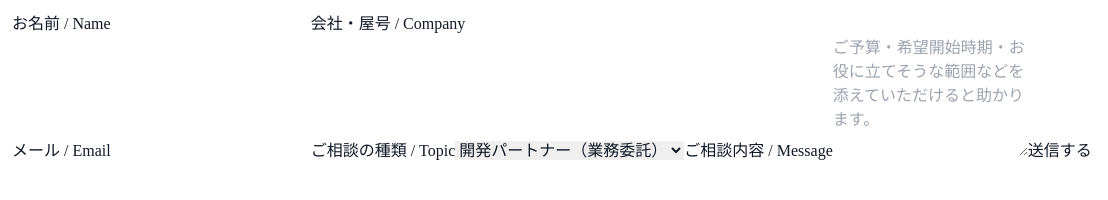
Test: Phase 6: ContactForm — submission › posts the mapped payload to /api/contact and shows success copy
Type "堤 暁寛" into the field labelled "お名前 / Name". click: (211, 24)
box: [111,12,311,36]
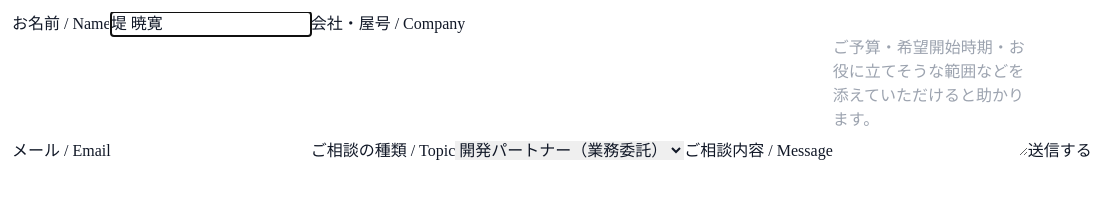
Type "a@b.co" into the field labelled "メール / Email". click: (211, 151)
box: [111,139,311,163]
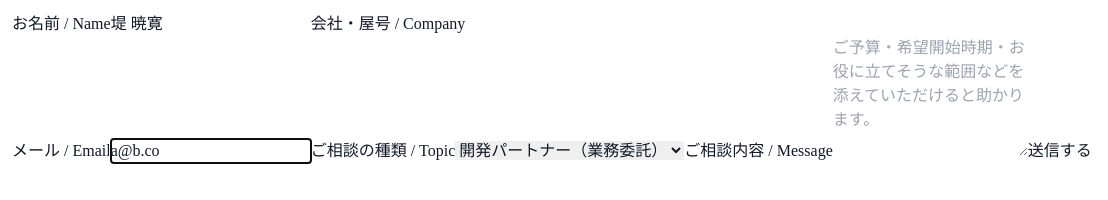
Exercise the topic select change path as well.
Select "スポット・単発案件" in the dropdown labelled "ご相談の種類 / Topic". click: (570, 150)
box: [455,141,684,160]
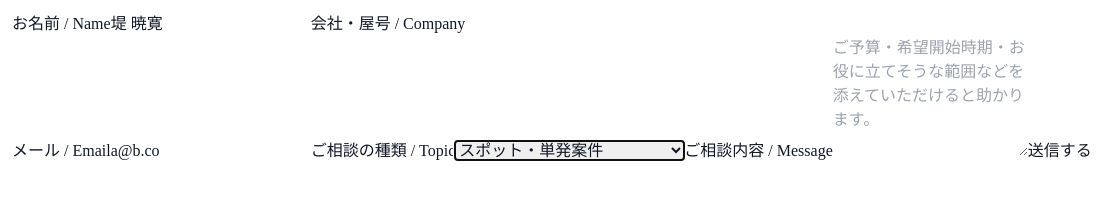
Type "はじめまして。" into the text box labelled "ご相談内容 / Message". click: (930, 96)
box: [833,36,1028,156]
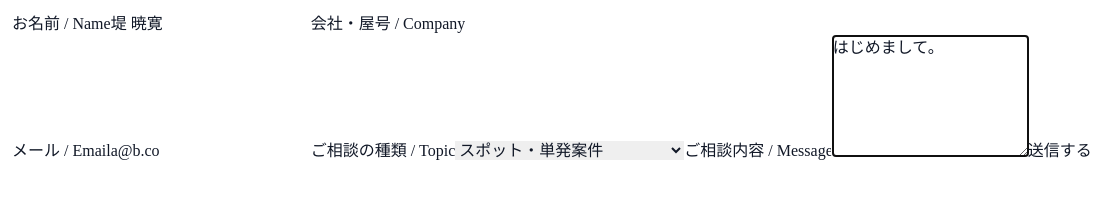
Click the button "送信する". click: (1060, 151)
box: [1028,139,1092,163]
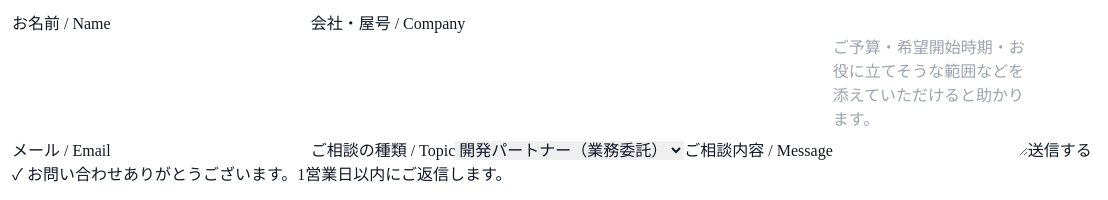
Expected: the message shows "ありがとう", [12,166,511,183]
